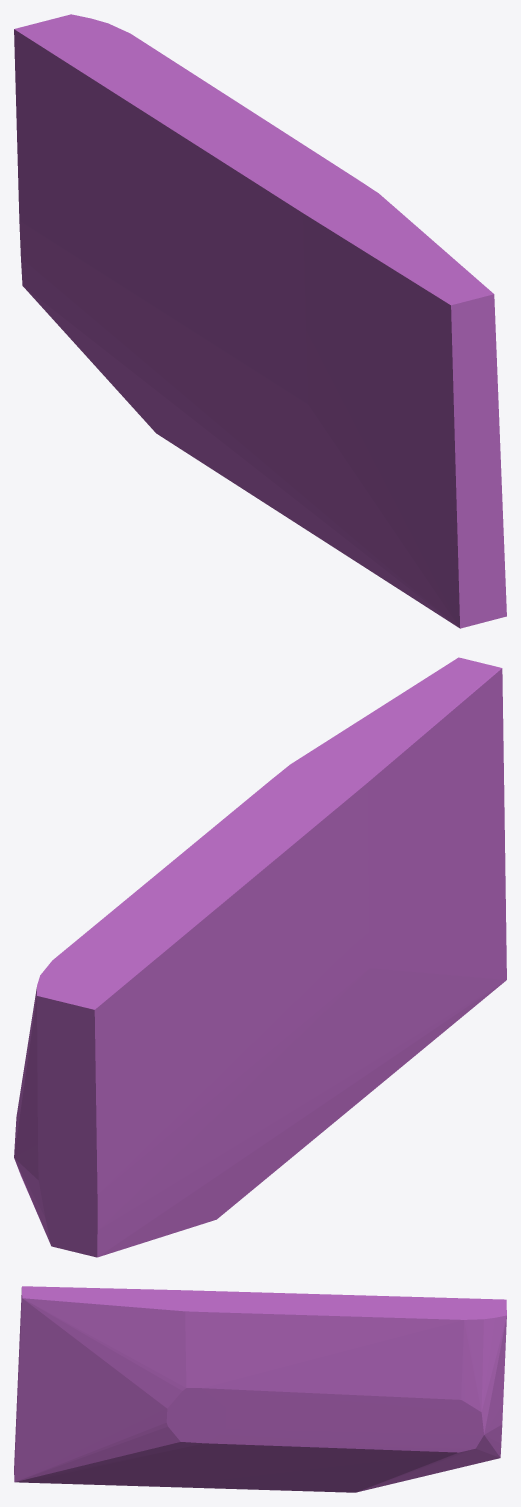
File: converted_Downdraft_Assy_collision_77_c26eceff.obj
3 views of the same model, one above another, from view 1: azimuth 30°, elevation 25°; view 2: azimuth 150°, elevation 25°; view 3: azimuth 270°, elevation 25° (orthographic). The views are drawn at different scales.
Size of the model in its own units: 0.0462 by 0.1392 by 0.3191.
